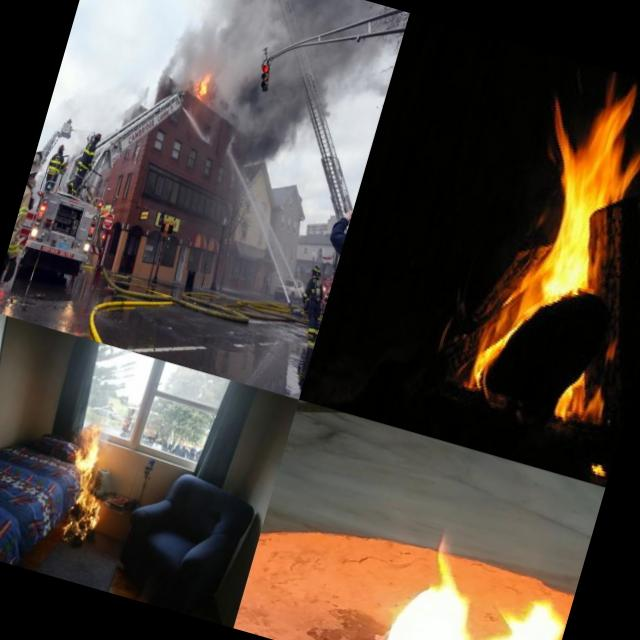fire: (447, 72, 640, 410), (341, 503, 583, 640), (50, 420, 124, 542), (189, 66, 214, 101)
smoke: (201, 0, 409, 117), (194, 70, 314, 170), (151, 0, 229, 94)
